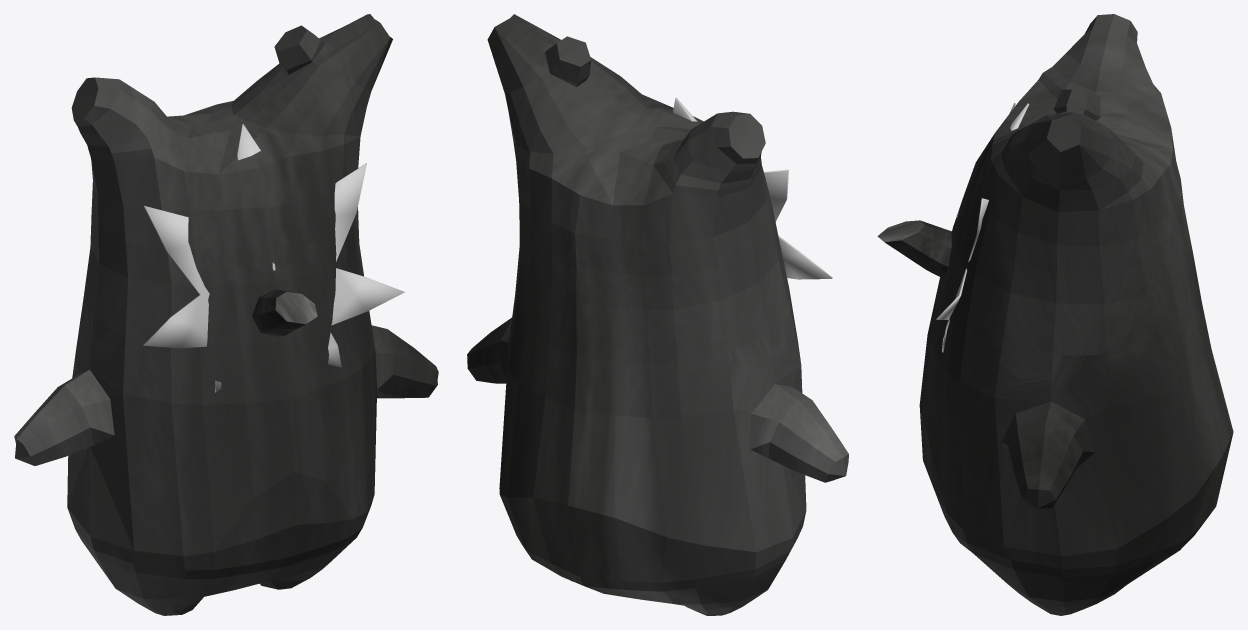
Rendered from frame_0094.obj.
3 renders of one model, left to right at view 1: azimuth 30°, elevation 25°; view 2: azimuth 150°, elevation 25°; view 3: azimuth 270°, elevation 25°, orthographic.
Parts seen in each view (by area): view 1: korok, leaf, nose.003_柱体.011; view 2: korok, leaf; view 3: korok, nose.003_柱体.011, leaf.
Boxes of the visible parts, left/top/right/bottom form: korok: left=14, top=14, right=438, bottom=615; leaf: left=143, top=124, right=404, bottom=392; nose.003_柱体.011: left=252, top=289, right=317, bottom=336; korok: left=467, top=14, right=848, bottom=615; leaf: left=673, top=97, right=832, bottom=279; korok: left=919, top=14, right=1233, bottom=615; nose.003_柱体.011: left=877, top=220, right=951, bottom=278; leaf: left=936, top=103, right=1029, bottom=352.
Size of the model in its own units: 1.69 by 2.22 by 1.32.
